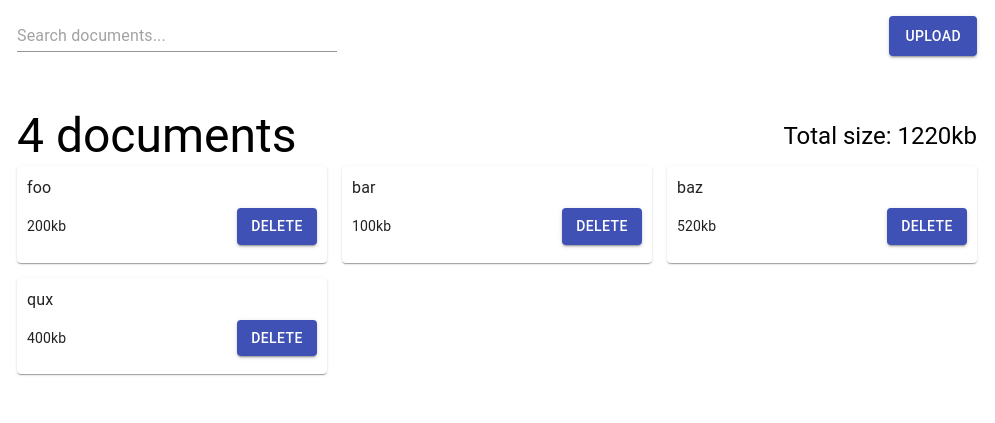
Test case: Documents Page › should handle errors for failed deletions
Click the button with test id "DocumentCard-deleteButton-4" at (277, 339), box [237, 320, 317, 357]
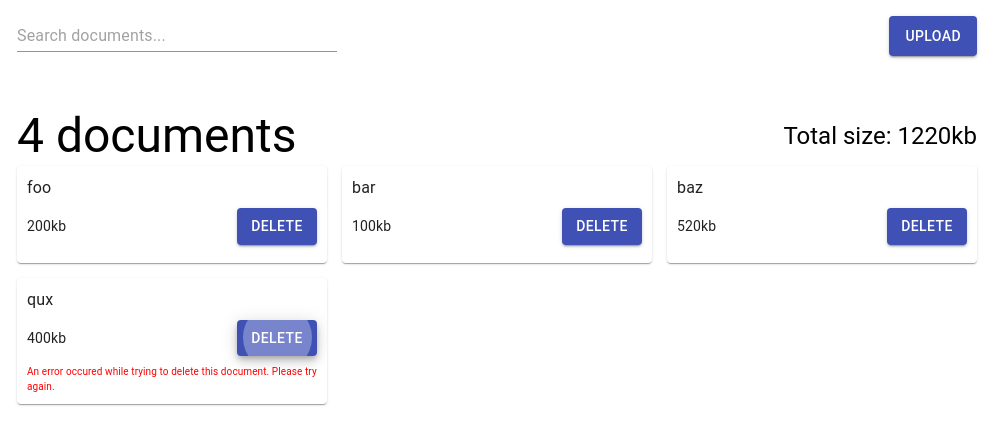
Now the text with test id "DocumentCard-error-4" reads "An error occured while trying to delete this document. Please try again.", box [27, 366, 317, 392]
